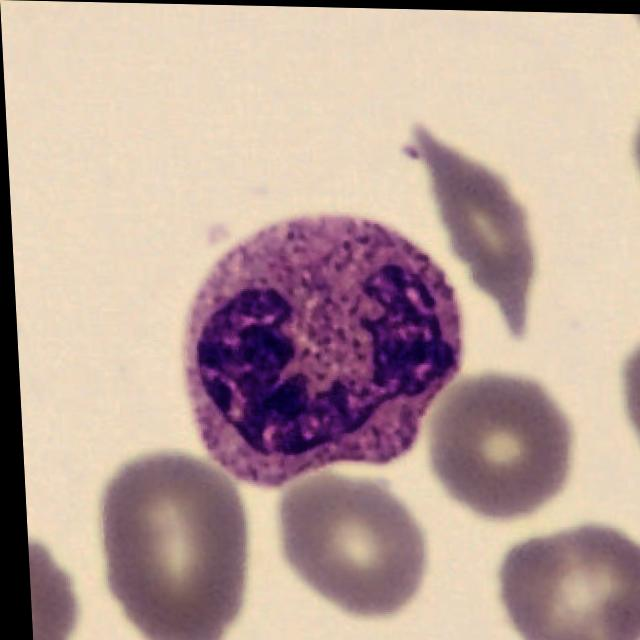Neutrofilo segmentado: (177, 213, 462, 489)
